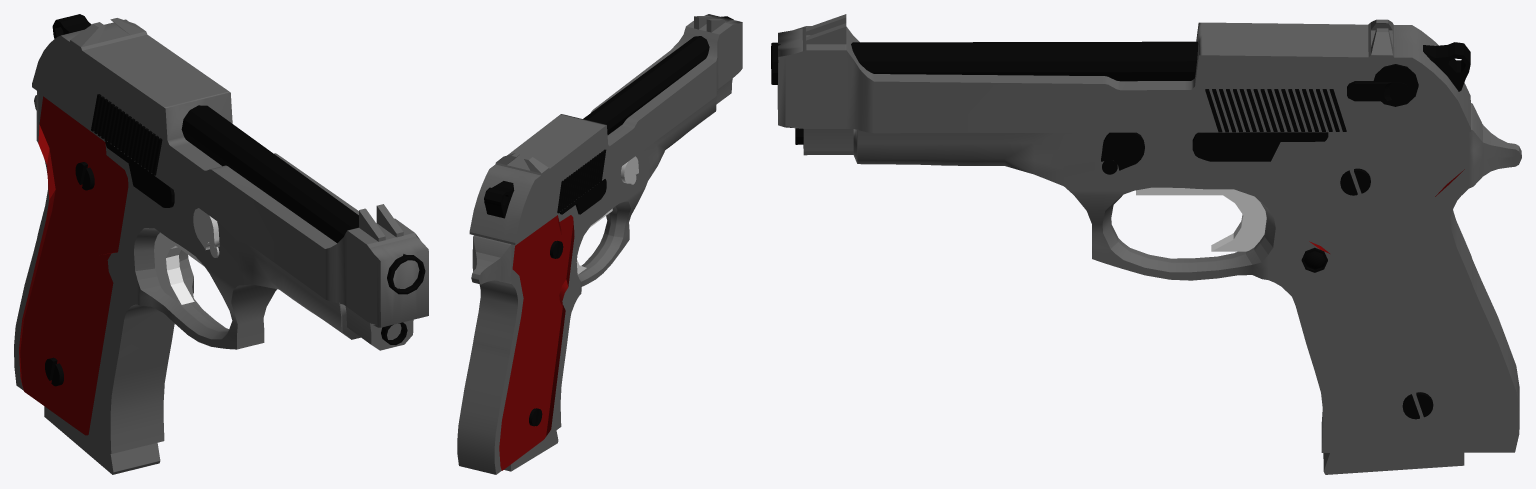
File: revolver_fake1.fbx
3 views of the same model, side by side, from view 1: azimuth 30°, elevation 25°; view 2: azimuth 150°, elevation 25°; view 3: azimuth 270°, elevation 25° (orthographic). The views are drawn at different scales.
Parts seen in each view (by area): view 1: Beretta_M9.003, Beretta_M9.068; view 2: Beretta_M9.003, Beretta_M9.068; view 3: Beretta_M9.003, Beretta_M9.068.
Boxes of the visible parts, x1,y1,x2,y2 form: Beretta_M9.003: (14, 14, 428, 474); Beretta_M9.068: (19, 94, 425, 435); Beretta_M9.003: (457, 14, 742, 474); Beretta_M9.068: (499, 16, 733, 470); Beretta_M9.003: (777, 14, 1521, 474); Beretta_M9.068: (771, 41, 1433, 419).
Size of the model in its own units: 4.49 by 23.97 by 36.74.
